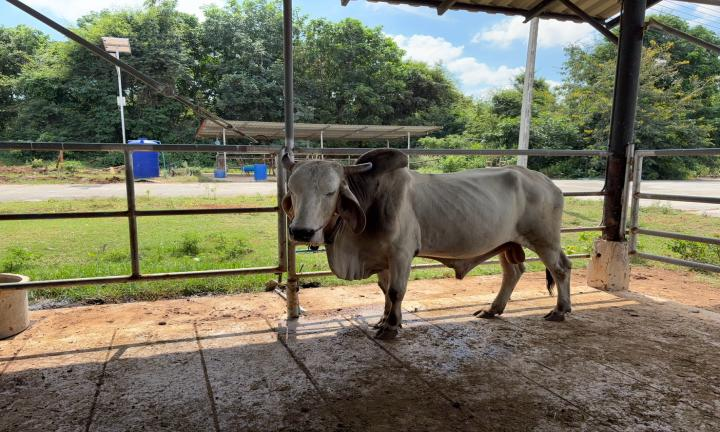Brahman: (282, 148, 571, 338)
